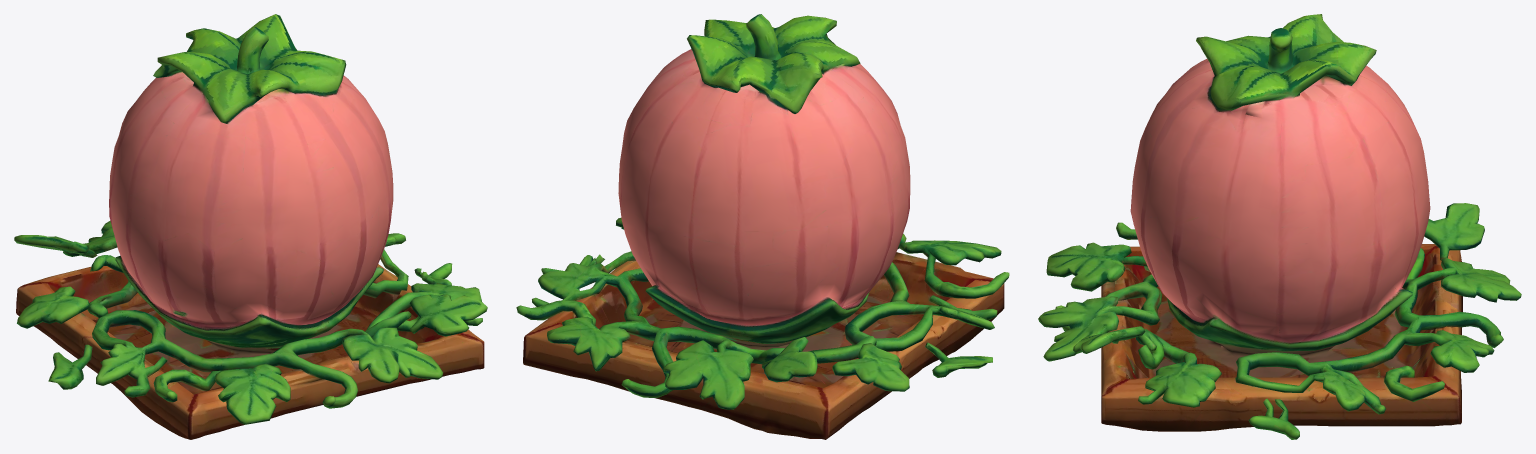
File: pumpkin_pink.glb
3 views of the same model, side by side, from view 1: azimuth 30°, elevation 25°; view 2: azimuth 150°, elevation 25°; view 3: azimuth 270°, elevation 25° (orthographic). The views are drawn at different scales.
Bounding box in the file's own units: 1.88 × 1.37 × 1.8.
Materials: 1 (1 with a texture image).
